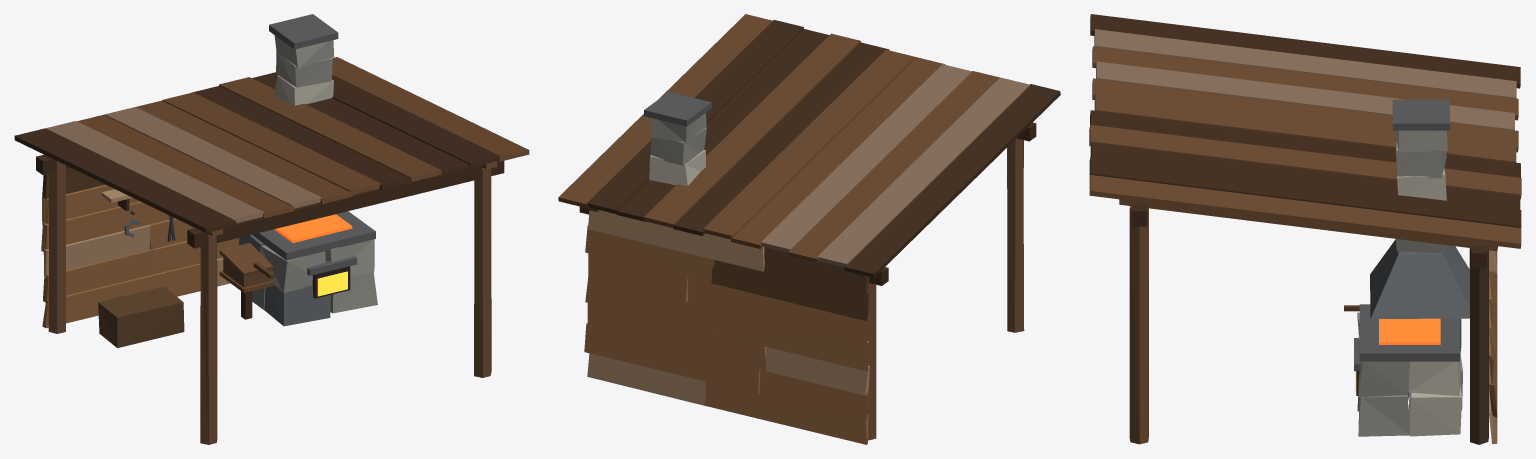
File: SM_Blacksmith.fbx
3 views of the same model, side by side, from view 1: azimuth 30°, elevation 25°; view 2: azimuth 150°, elevation 25°; view 3: azimuth 270°, elevation 25° (orthographic). The views are drawn at different scales.
Visible parts, largest first — view 1: SM_Blacksmith; view 2: SM_Blacksmith; view 3: SM_Blacksmith.
Part boxes in pixels (<box>): SM_Blacksmith: <box>14,14,529,444</box>; SM_Blacksmith: <box>558,14,1060,444</box>; SM_Blacksmith: <box>1089,14,1521,444</box>.
Size of the model in its own units: 5.42 by 4.3 by 5.59.
